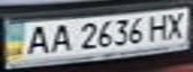2: (75, 19, 100, 51)
3: (112, 17, 133, 47)
6: (127, 15, 151, 45), (93, 17, 115, 48)
A: (21, 24, 54, 56), (45, 21, 75, 54)
H: (145, 11, 172, 42)
X: (163, 9, 190, 40)
